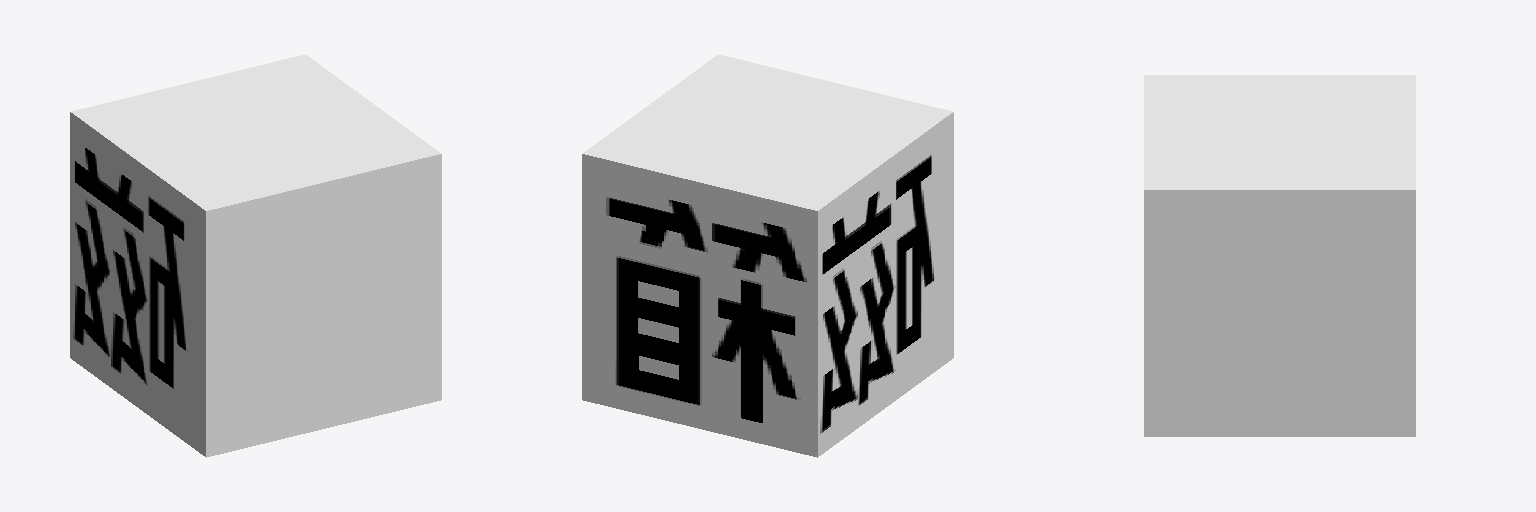
The picture shows the model from 3 angles: view 1: azimuth 30°, elevation 25°; view 2: azimuth 150°, elevation 25°; view 3: azimuth 270°, elevation 25°; orthographic projection.
Visible parts, largest first — view 1: Cube; view 2: Cube; view 3: Cube.
Boxes of the visible parts, box(x1,y1,x2,y2) form: Cube: box(70, 54, 441, 457); Cube: box(582, 54, 953, 457); Cube: box(1144, 75, 1415, 436).
Size of the model in its own units: 2 by 2 by 2.
Materials: 1 (1 with a texture image).